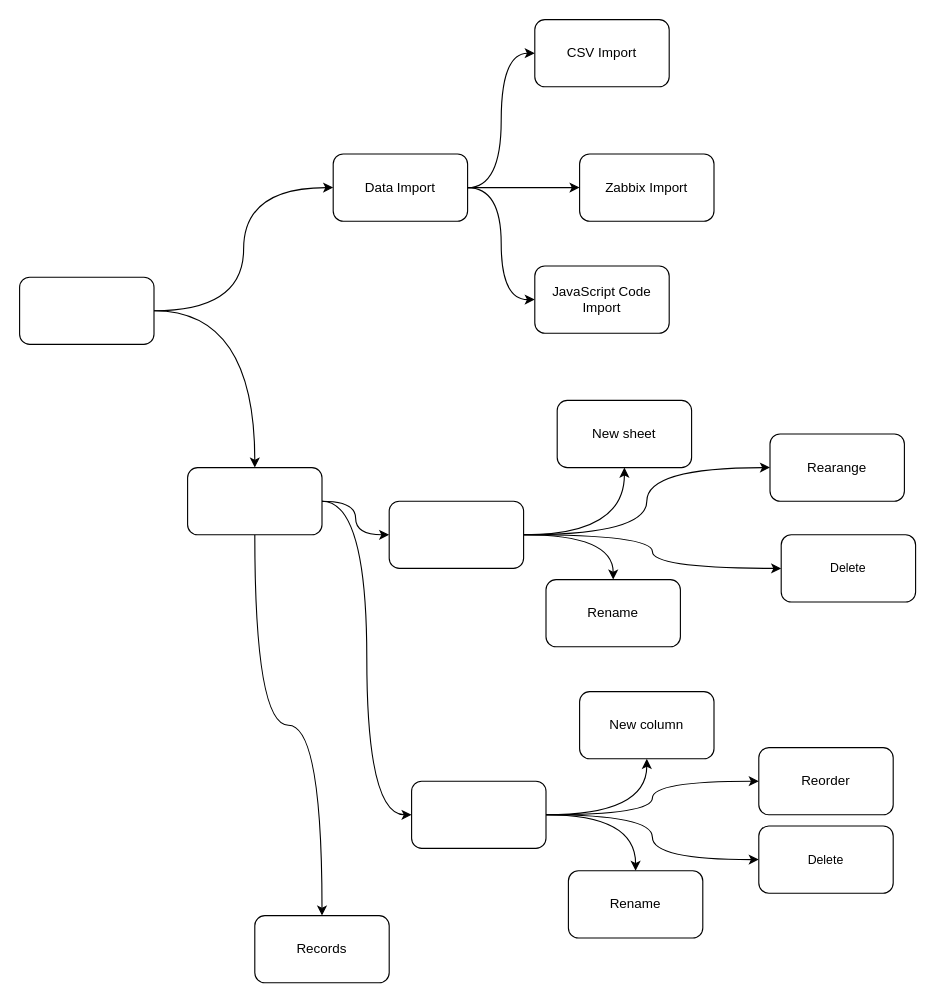
Image size: 935x1002. Some labels were removed from this diagram. Here are the shapes that lost their labels. From the top down, the centre of each, then its label:
point (86, 310): ZbxWizz
point (254, 500): Visualisation
point (456, 534): Worksheets
point (478, 814): Columns
